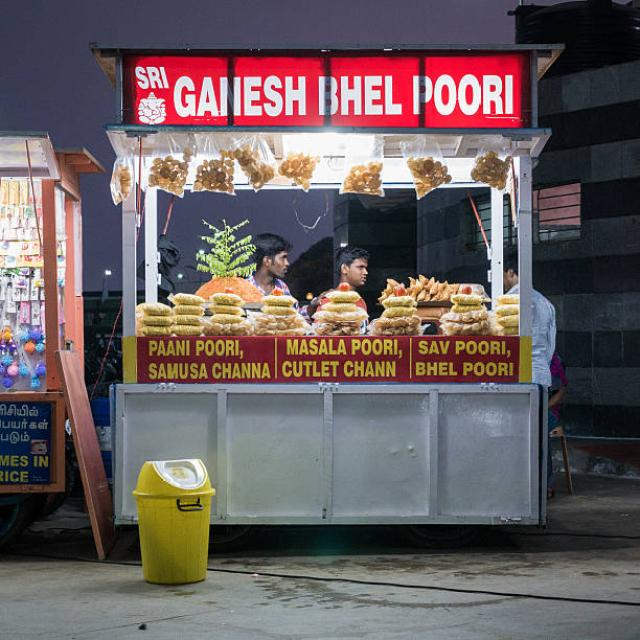Emperan: (72, 25, 589, 559)
